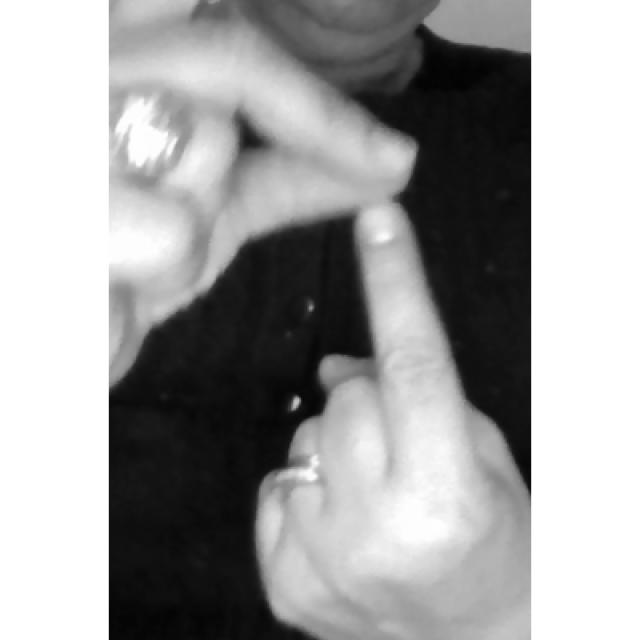I-: (110, 1, 530, 640)
